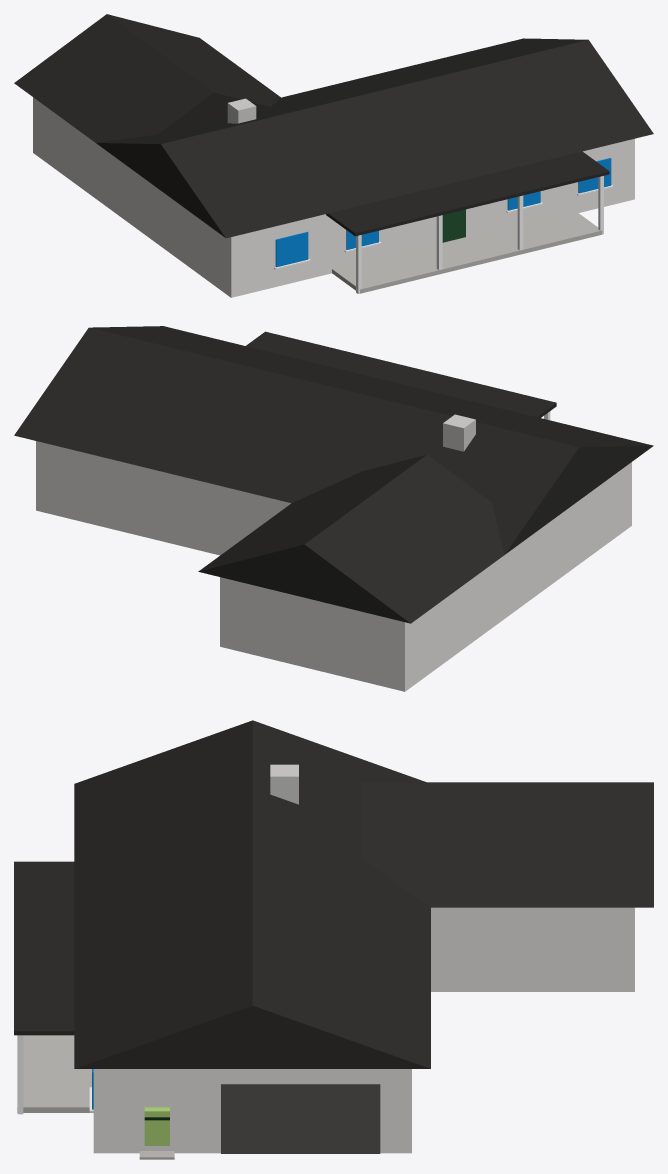
The model's file is house-ranch.glb.
3 views of the same model, one above another, from view 1: azimuth 30°, elevation 25°; view 2: azimuth 150°, elevation 25°; view 3: azimuth 270°, elevation 25° (orthographic). The views are drawn at different scales.
Visible parts, largest first — view 1: Roof, WingRoof, Walls, PorchRoof, Porch, Wing, Window, Door, Chimney, Window.003; view 2: Roof, WingRoof, Walls, Wing, PorchRoof, Chimney; view 3: Roof, WingRoof, Wing, Walls, GarageDoor, PorchRoof, Porch, Chimney, Battery.
Part boxes in pixels (<box>): Roof: <box>96,38,653,238</box>; WingRoof: <box>14,14,280,142</box>; Walls: <box>114,138,634,297</box>; PorchRoof: <box>326,151,609,236</box>; Porch: <box>332,210,602,293</box>; Wing: <box>33,97,126,218</box>; Window: <box>275,231,308,267</box>; Door: <box>442,209,465,242</box>; Chimney: <box>227,98,256,123</box>; Window.003: <box>578,158,611,193</box>; Roof: <box>14,326,653,554</box>; WingRoof: <box>198,454,504,623</box>; Walls: <box>36,441,631,622</box>; Wing: <box>220,550,511,691</box>; PorchRoof: <box>246,331,556,417</box>; Chimney: <box>443,414,475,451</box>; Roof: <box>74,720,430,1068</box>; WingRoof: <box>361,782,653,907</box>; Wing: <box>431,907,634,991</box>; Walls: <box>93,1069,411,1153</box>; GarageDoor: <box>221,1084,380,1153</box>; PorchRoof: <box>14,861,74,1035</box>; Porch: <box>17,1035,93,1112</box>; Chimney: <box>270,764,298,804</box>; Battery: <box>144,1107,169,1145</box>.
Bounding box in the file's own units: 21.2 × 5.8 × 20.1.
